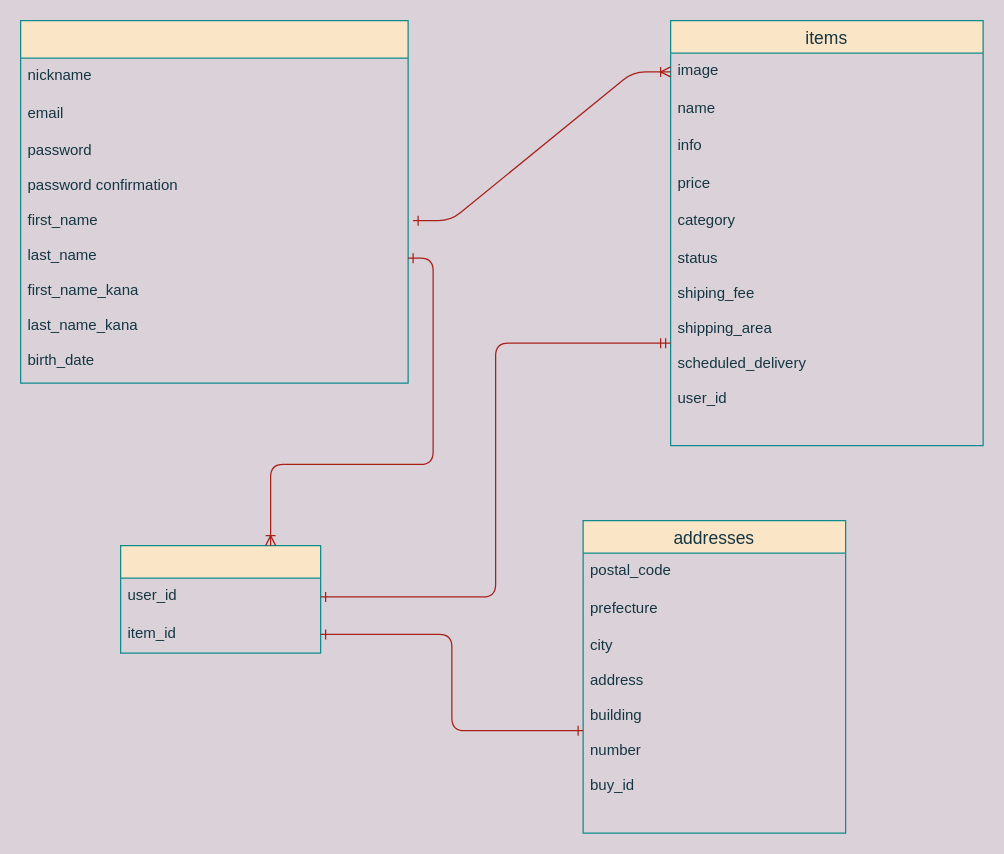
This 1004x854 diagram has some shape labels left out. Here are the shapes that lost their labels. From the top down, the box of each, then its label:
(19, 19, 408, 383): users
(119, 544, 321, 653): buys
